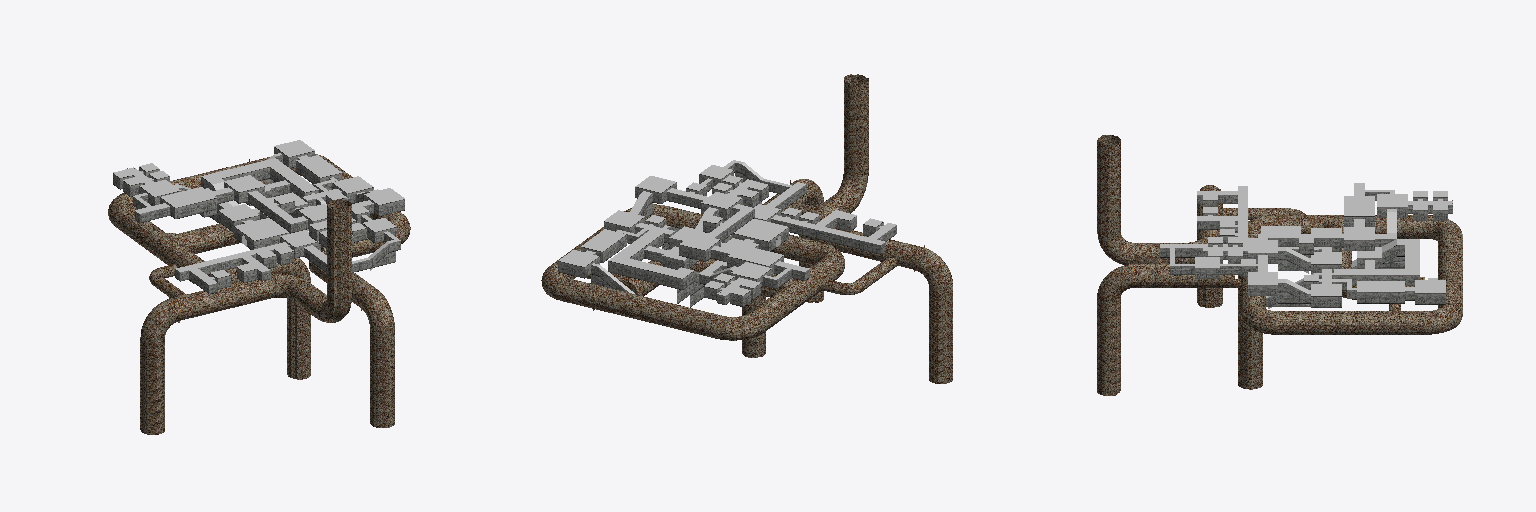
3 views of the same model, side by side, from view 1: azimuth 30°, elevation 25°; view 2: azimuth 150°, elevation 25°; view 3: azimuth 270°, elevation 25° (orthographic).
Visible parts, largest first — view 1: Sewerage_5&10, Ceiling, Maze; view 2: Sewerage_5&10, Maze, Ceiling; view 3: Sewerage_5&10, Ceiling, Maze.
Boxes of the visible parts, x1,y1,x2,y2 form: Sewerage_5&10: [108, 154, 410, 434]; Ceiling: [113, 140, 404, 284]; Maze: [113, 147, 404, 293]; Sewerage_5&10: [541, 74, 952, 383]; Maze: [558, 163, 896, 307]; Ceiling: [559, 160, 895, 295]; Sewerage_5&10: [1097, 135, 1462, 395]; Ceiling: [1160, 183, 1452, 297]; Maze: [1160, 192, 1452, 308].
Bounding box in the file's own units: 67.9 × 50 × 72.4.
8 materials, 5 textured.